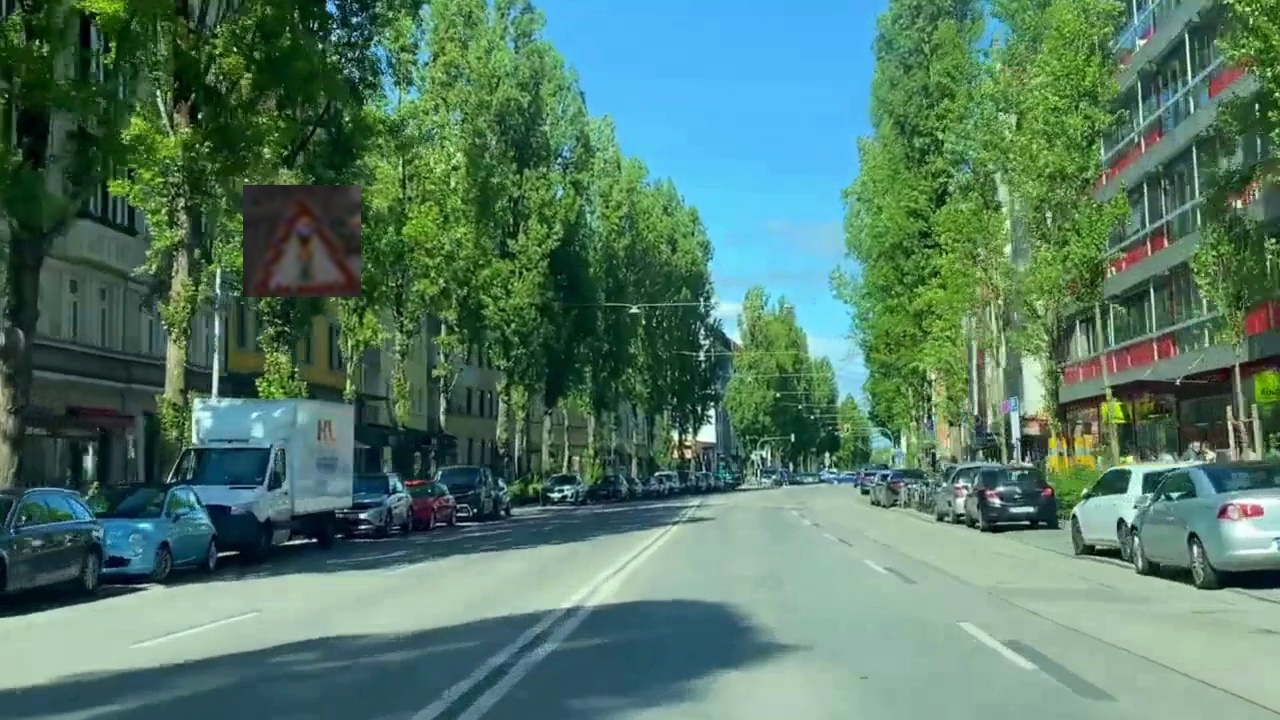Signals: (243, 185, 361, 297)
